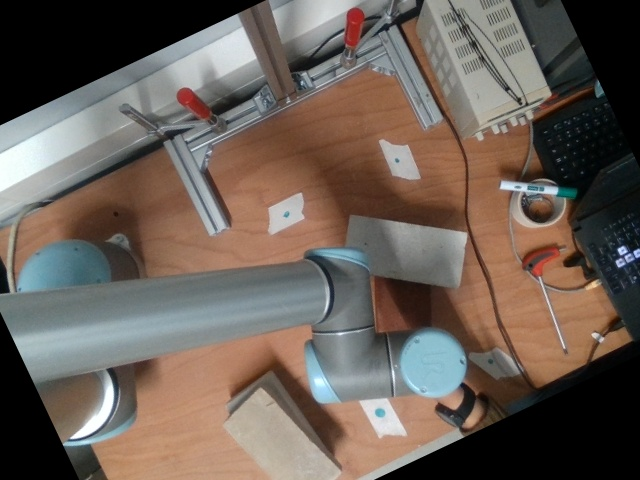brick: (222, 387, 342, 479)
